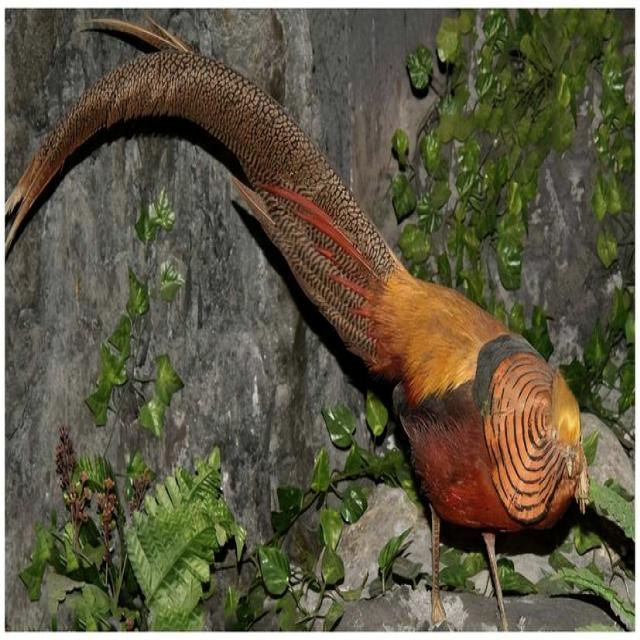Chrysolophus pictus feather: (5, 22, 399, 365)
